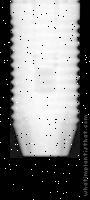Anthogyr: (10, 0, 80, 158)
